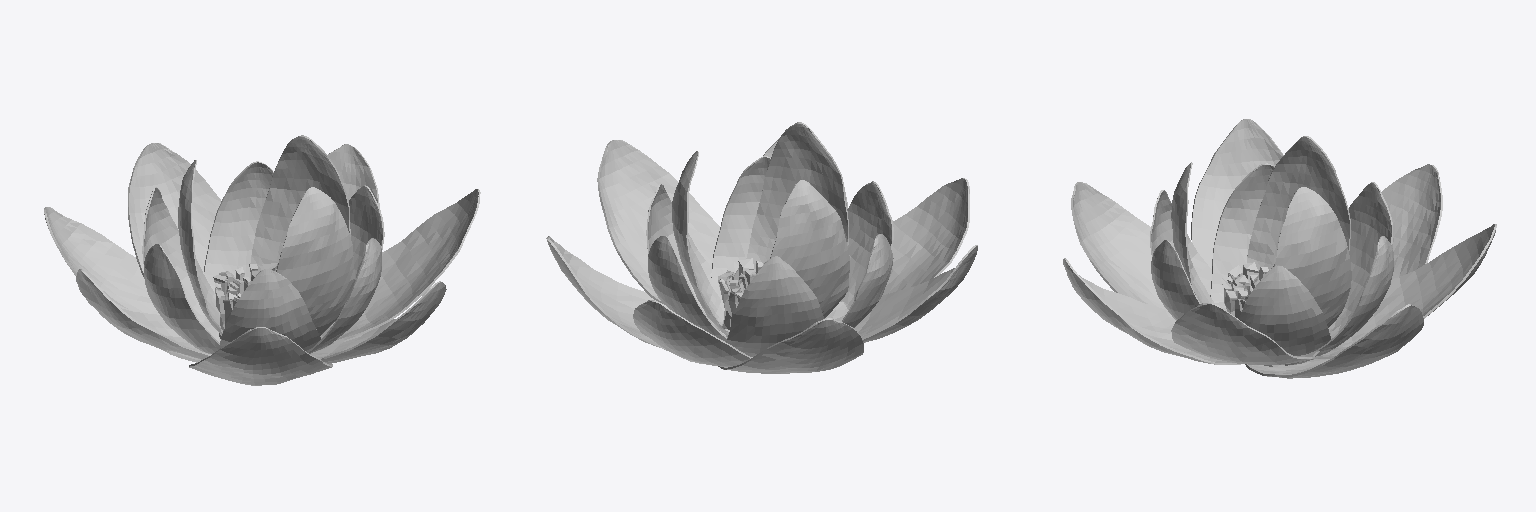
Rendered from lotus.obj.
3 renders of one model, left to right at view 1: azimuth 30°, elevation 25°; view 2: azimuth 150°, elevation 25°; view 3: azimuth 270°, elevation 25°, orthographic.
Visible parts, largest first — view 1: lotus_OBJ_low:lotu_petal_13, lotus_OBJ_low:lotu_petal_02, lotus_OBJ_low:lotu_petal_14, lotus_OBJ_low:lotu_petal_00, lotus_OBJ_low:lotu_petal_06, lotus_OBJ_low:lotu_petal_04, lotus_OBJ_low:lotu_petal_11, lotus_OBJ_low:lotu_petal_08, lotus_OBJ_low:lotu_petal_09, lotus_OBJ_low:lotu_petal_05, lotus_OBJ_low:lotu_petal_03, lotus_OBJ_low:lotu_petal_15 (+5 smaller); view 2: lotus_OBJ_low:lotu_petal_02, lotus_OBJ_low:lotu_petal_15, lotus_OBJ_low:lotu_petal_13, lotus_OBJ_low:lotu_petal_04, lotus_OBJ_low:lotu_petal_10, lotus_OBJ_low:lotu_petal_06, lotus_OBJ_low:lotu_petal_05, lotus_OBJ_low:lotu_petal_00, lotus_OBJ_low:lotu_petal_01, lotus_OBJ_low:lotu_petal_07, lotus_OBJ_low:lotu_petal_08, lotus_OBJ_low:lotu_petal_11 (+4 smaller); view 3: lotus_OBJ_low:lotu_petal_14, lotus_OBJ_low:lotu_petal_04, lotus_OBJ_low:lotu_petal_15, lotus_OBJ_low:lotu_petal_05, lotus_OBJ_low:lotu_petal_12, lotus_OBJ_low:lotu_petal_00, lotus_OBJ_low:lotu_petal_06, lotus_OBJ_low:lotu_petal_02, lotus_OBJ_low:lotu_petal_03, lotus_OBJ_low:lotu_petal_01, lotus_OBJ_low:lotu_petal_09, lotus_OBJ_low:lotu_petal_10 (+5 smaller).
Boxes of the visible parts, <box> form: lotus_OBJ_low:lotu_petal_13: <box>276,187,354,335</box>; lotus_OBJ_low:lotu_petal_02: <box>320,189,480,343</box>; lotus_OBJ_low:lotu_petal_14: <box>250,135,350,279</box>; lotus_OBJ_low:lotu_petal_00: <box>128,143,220,276</box>; lotus_OBJ_low:lotu_petal_06: <box>44,207,200,362</box>; lotus_OBJ_low:lotu_petal_04: <box>189,327,332,385</box>; lotus_OBJ_low:lotu_petal_11: <box>204,161,273,292</box>; lotus_OBJ_low:lotu_petal_08: <box>218,269,320,351</box>; lotus_OBJ_low:lotu_petal_09: <box>144,244,219,353</box>; lotus_OBJ_low:lotu_petal_05: <box>76,269,220,359</box>; lotus_OBJ_low:lotu_petal_03: <box>310,281,446,363</box>; lotus_OBJ_low:lotu_petal_15: <box>178,160,222,335</box>; lotus_OBJ_low:lotu_petal_02: <box>597,140,729,331</box>; lotus_OBJ_low:lotu_petal_15: <box>770,180,849,317</box>; lotus_OBJ_low:lotu_petal_13: <box>746,122,848,271</box>; lotus_OBJ_low:lotu_petal_04: <box>865,178,969,342</box>; lotus_OBJ_low:lotu_petal_10: <box>726,256,824,356</box>; lotus_OBJ_low:lotu_petal_06: <box>718,318,863,373</box>; lotus_OBJ_low:lotu_petal_05: <box>825,245,977,342</box>; lotus_OBJ_low:lotu_petal_00: <box>633,300,752,366</box>; lotus_OBJ_low:lotu_petal_01: <box>546,236,706,364</box>; lotus_OBJ_low:lotu_petal_07: <box>711,156,770,298</box>; lotus_OBJ_low:lotu_petal_08: <box>840,181,893,309</box>; lotus_OBJ_low:lotu_petal_11: <box>648,236,726,341</box>; lotus_OBJ_low:lotu_petal_14: <box>1275,187,1351,327</box>; lotus_OBJ_low:lotu_petal_04: <box>1071,182,1166,309</box>; lotus_OBJ_low:lotu_petal_15: <box>1247,136,1350,270</box>; lotus_OBJ_low:lotu_petal_05: <box>1191,119,1283,310</box>; lotus_OBJ_low:lotu_petal_12: <box>1239,265,1330,364</box>; lotus_OBJ_low:lotu_petal_00: <box>1313,224,1496,359</box>; lotus_OBJ_low:lotu_petal_06: <box>1381,164,1442,278</box>; lotus_OBJ_low:lotu_petal_02: <box>1171,303,1319,364</box>; lotus_OBJ_low:lotu_petal_03: <box>1063,258,1240,364</box>; lotus_OBJ_low:lotu_petal_01: <box>1245,304,1423,378</box>; lotus_OBJ_low:lotu_petal_09: <box>1210,163,1274,302</box>; lotus_OBJ_low:lotu_petal_10: <box>1335,182,1392,321</box>.
Bounding box in the file's own units: 130 × 63.98 × 128.